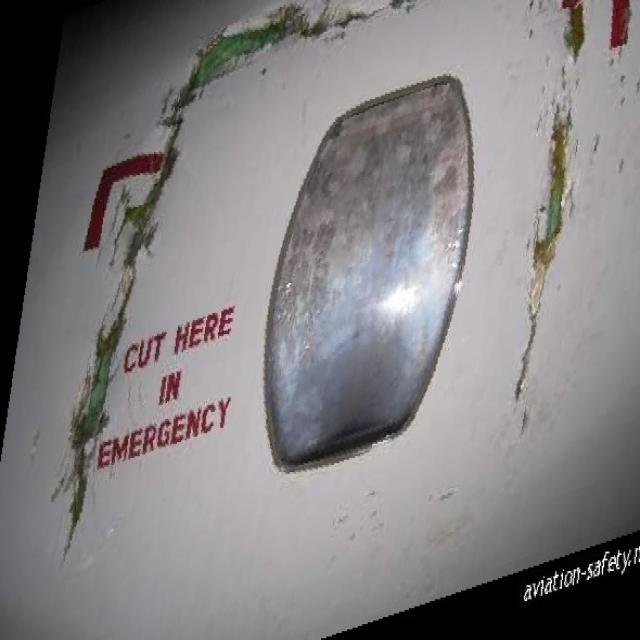crack: (46, 116, 188, 558), (166, 3, 415, 111), (507, 95, 576, 424)
